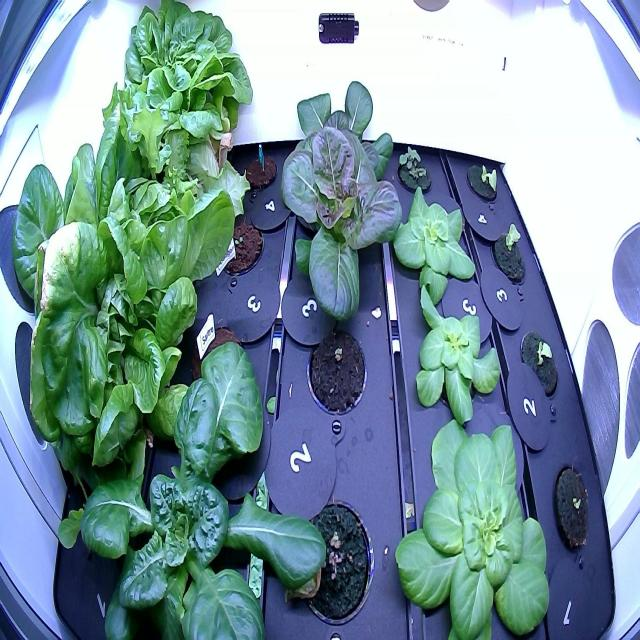Ready: (0, 132, 242, 455), (87, 0, 268, 185)
germination: (289, 487, 378, 632), (299, 314, 371, 422), (549, 452, 595, 564), (211, 208, 269, 282)
pod: (234, 146, 280, 198)
young: (52, 331, 328, 639), (382, 402, 556, 639), (262, 118, 407, 326), (403, 277, 506, 436), (273, 74, 397, 198), (382, 178, 479, 318), (515, 316, 561, 409), (485, 213, 531, 292), (463, 150, 505, 209)
